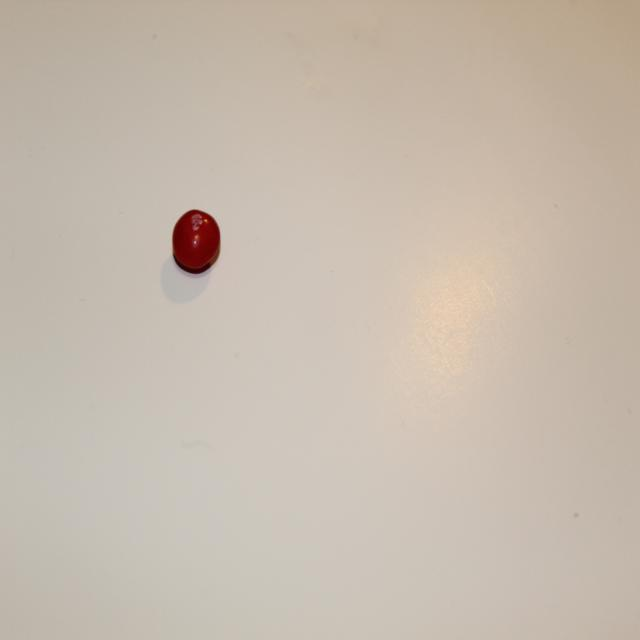smartie: (172, 209, 220, 273)
